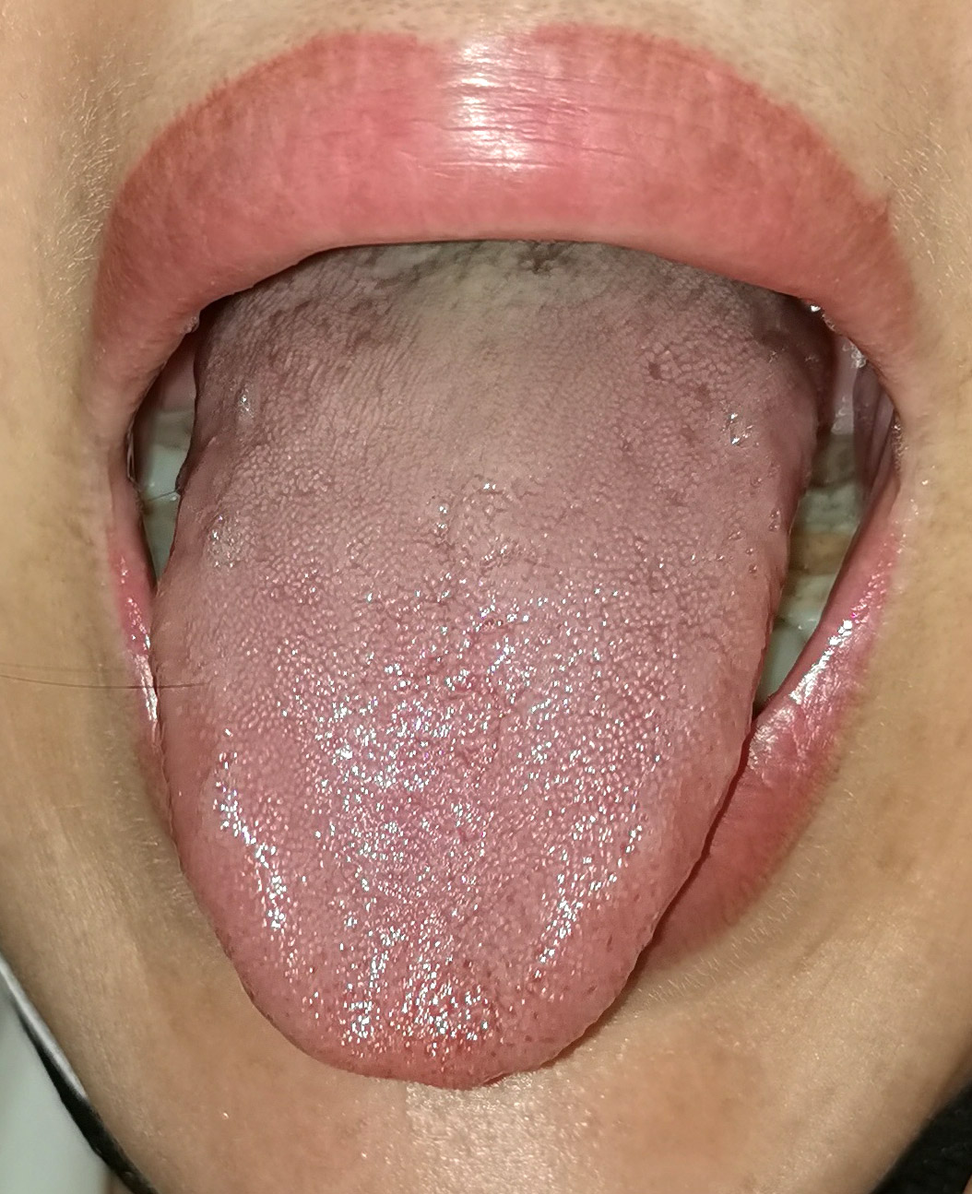baitaishe: (150, 238, 824, 1088)
hongdianshe: (379, 941, 531, 1070)
